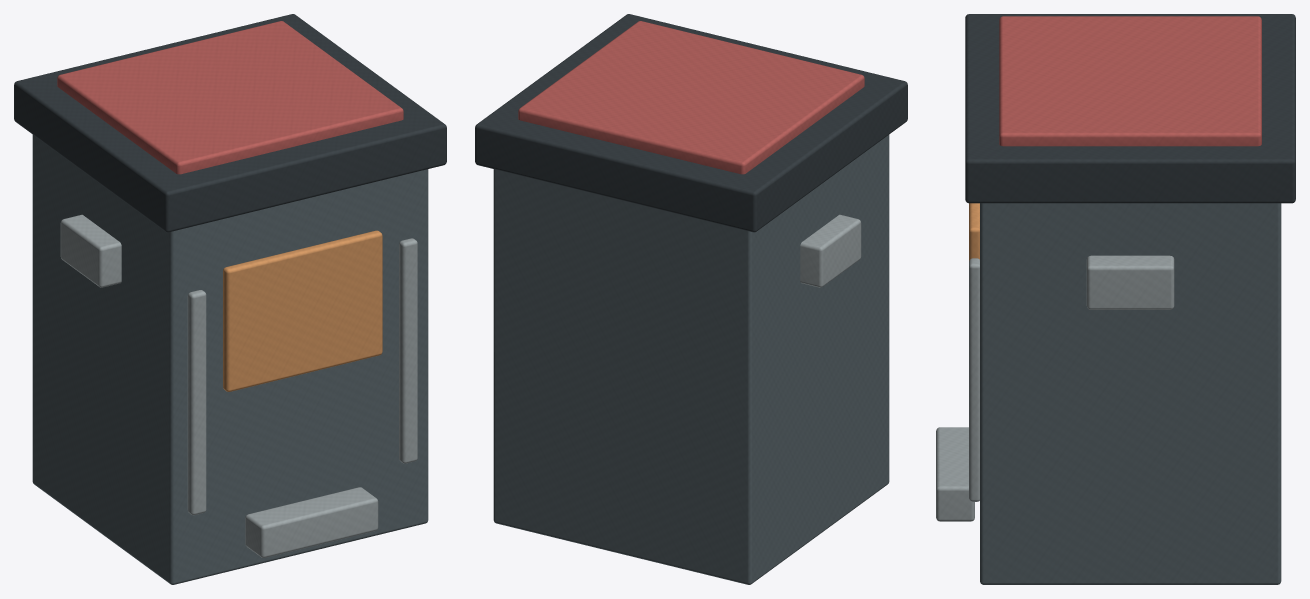
File: BiohazardWasteBin.fbx
3 views of the same model, side by side, from view 1: azimuth 30°, elevation 25°; view 2: azimuth 150°, elevation 25°; view 3: azimuth 270°, elevation 25° (orthographic). The views are drawn at different scales.
Visible parts, largest first — view 1: BiohazardWasteBin_Mesh; view 2: BiohazardWasteBin_Mesh; view 3: BiohazardWasteBin_Mesh.
Boxes of the visible parts, left/top/right/bottom form: BiohazardWasteBin_Mesh: left=14, top=14, right=446, bottom=584; BiohazardWasteBin_Mesh: left=475, top=14, right=907, bottom=584; BiohazardWasteBin_Mesh: left=936, top=14, right=1295, bottom=584.
Bounding box in the file's own units: 77 × 101 × 74.
Materials: 5 (5 with a texture image).
